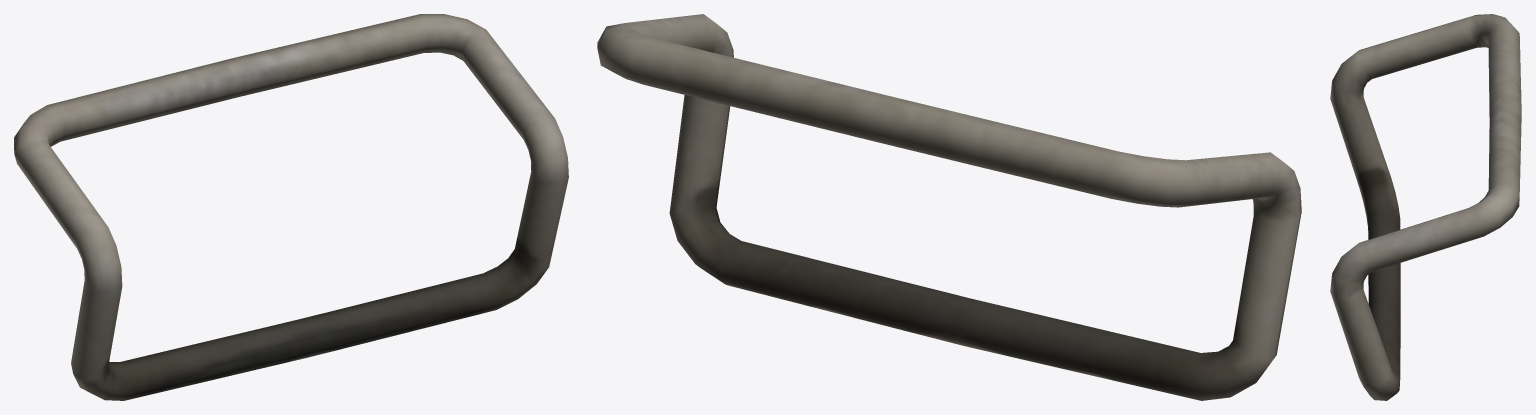
The model's file is metal_trash_can__metal_trash_can_handle_right.obj.
The picture shows the model from 3 angles, left to right: view 1: azimuth 30°, elevation 25°; view 2: azimuth 150°, elevation 25°; view 3: azimuth 270°, elevation 25°; orthographic projection. The views are drawn at different scales.
Parts seen in each view (by area): view 1: metal_trash_can_handle_right; view 2: metal_trash_can_handle_right; view 3: metal_trash_can_handle_right.
Boxes of the visible parts, x1,y1,x2,y2 form: metal_trash_can_handle_right: [14, 14, 568, 400]; metal_trash_can_handle_right: [597, 14, 1301, 400]; metal_trash_can_handle_right: [1330, 14, 1521, 400].
Size of the model in its own units: 0.1855 by 0.09 by 0.0725.
1 material, 1 textured.
